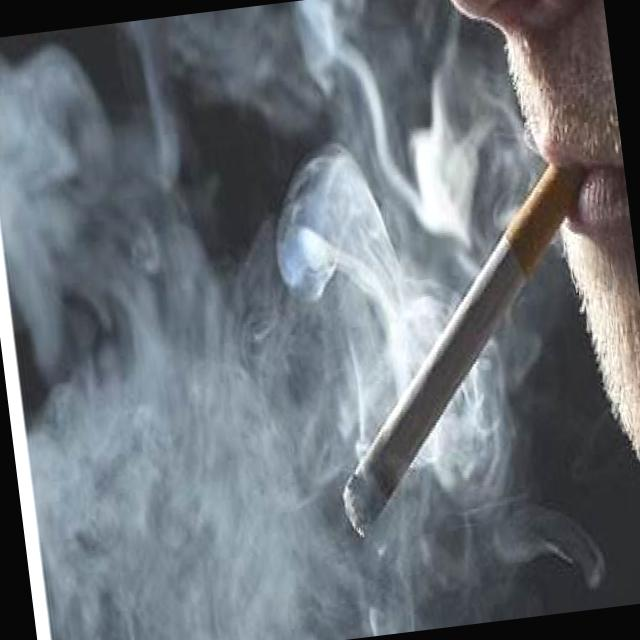cigarette: (298, 144, 628, 546)
